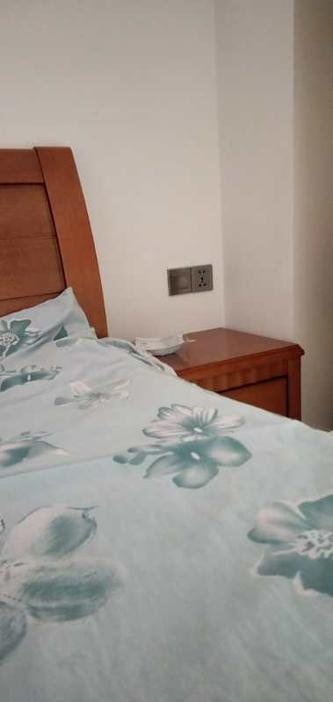switch: (170, 271, 194, 287)
